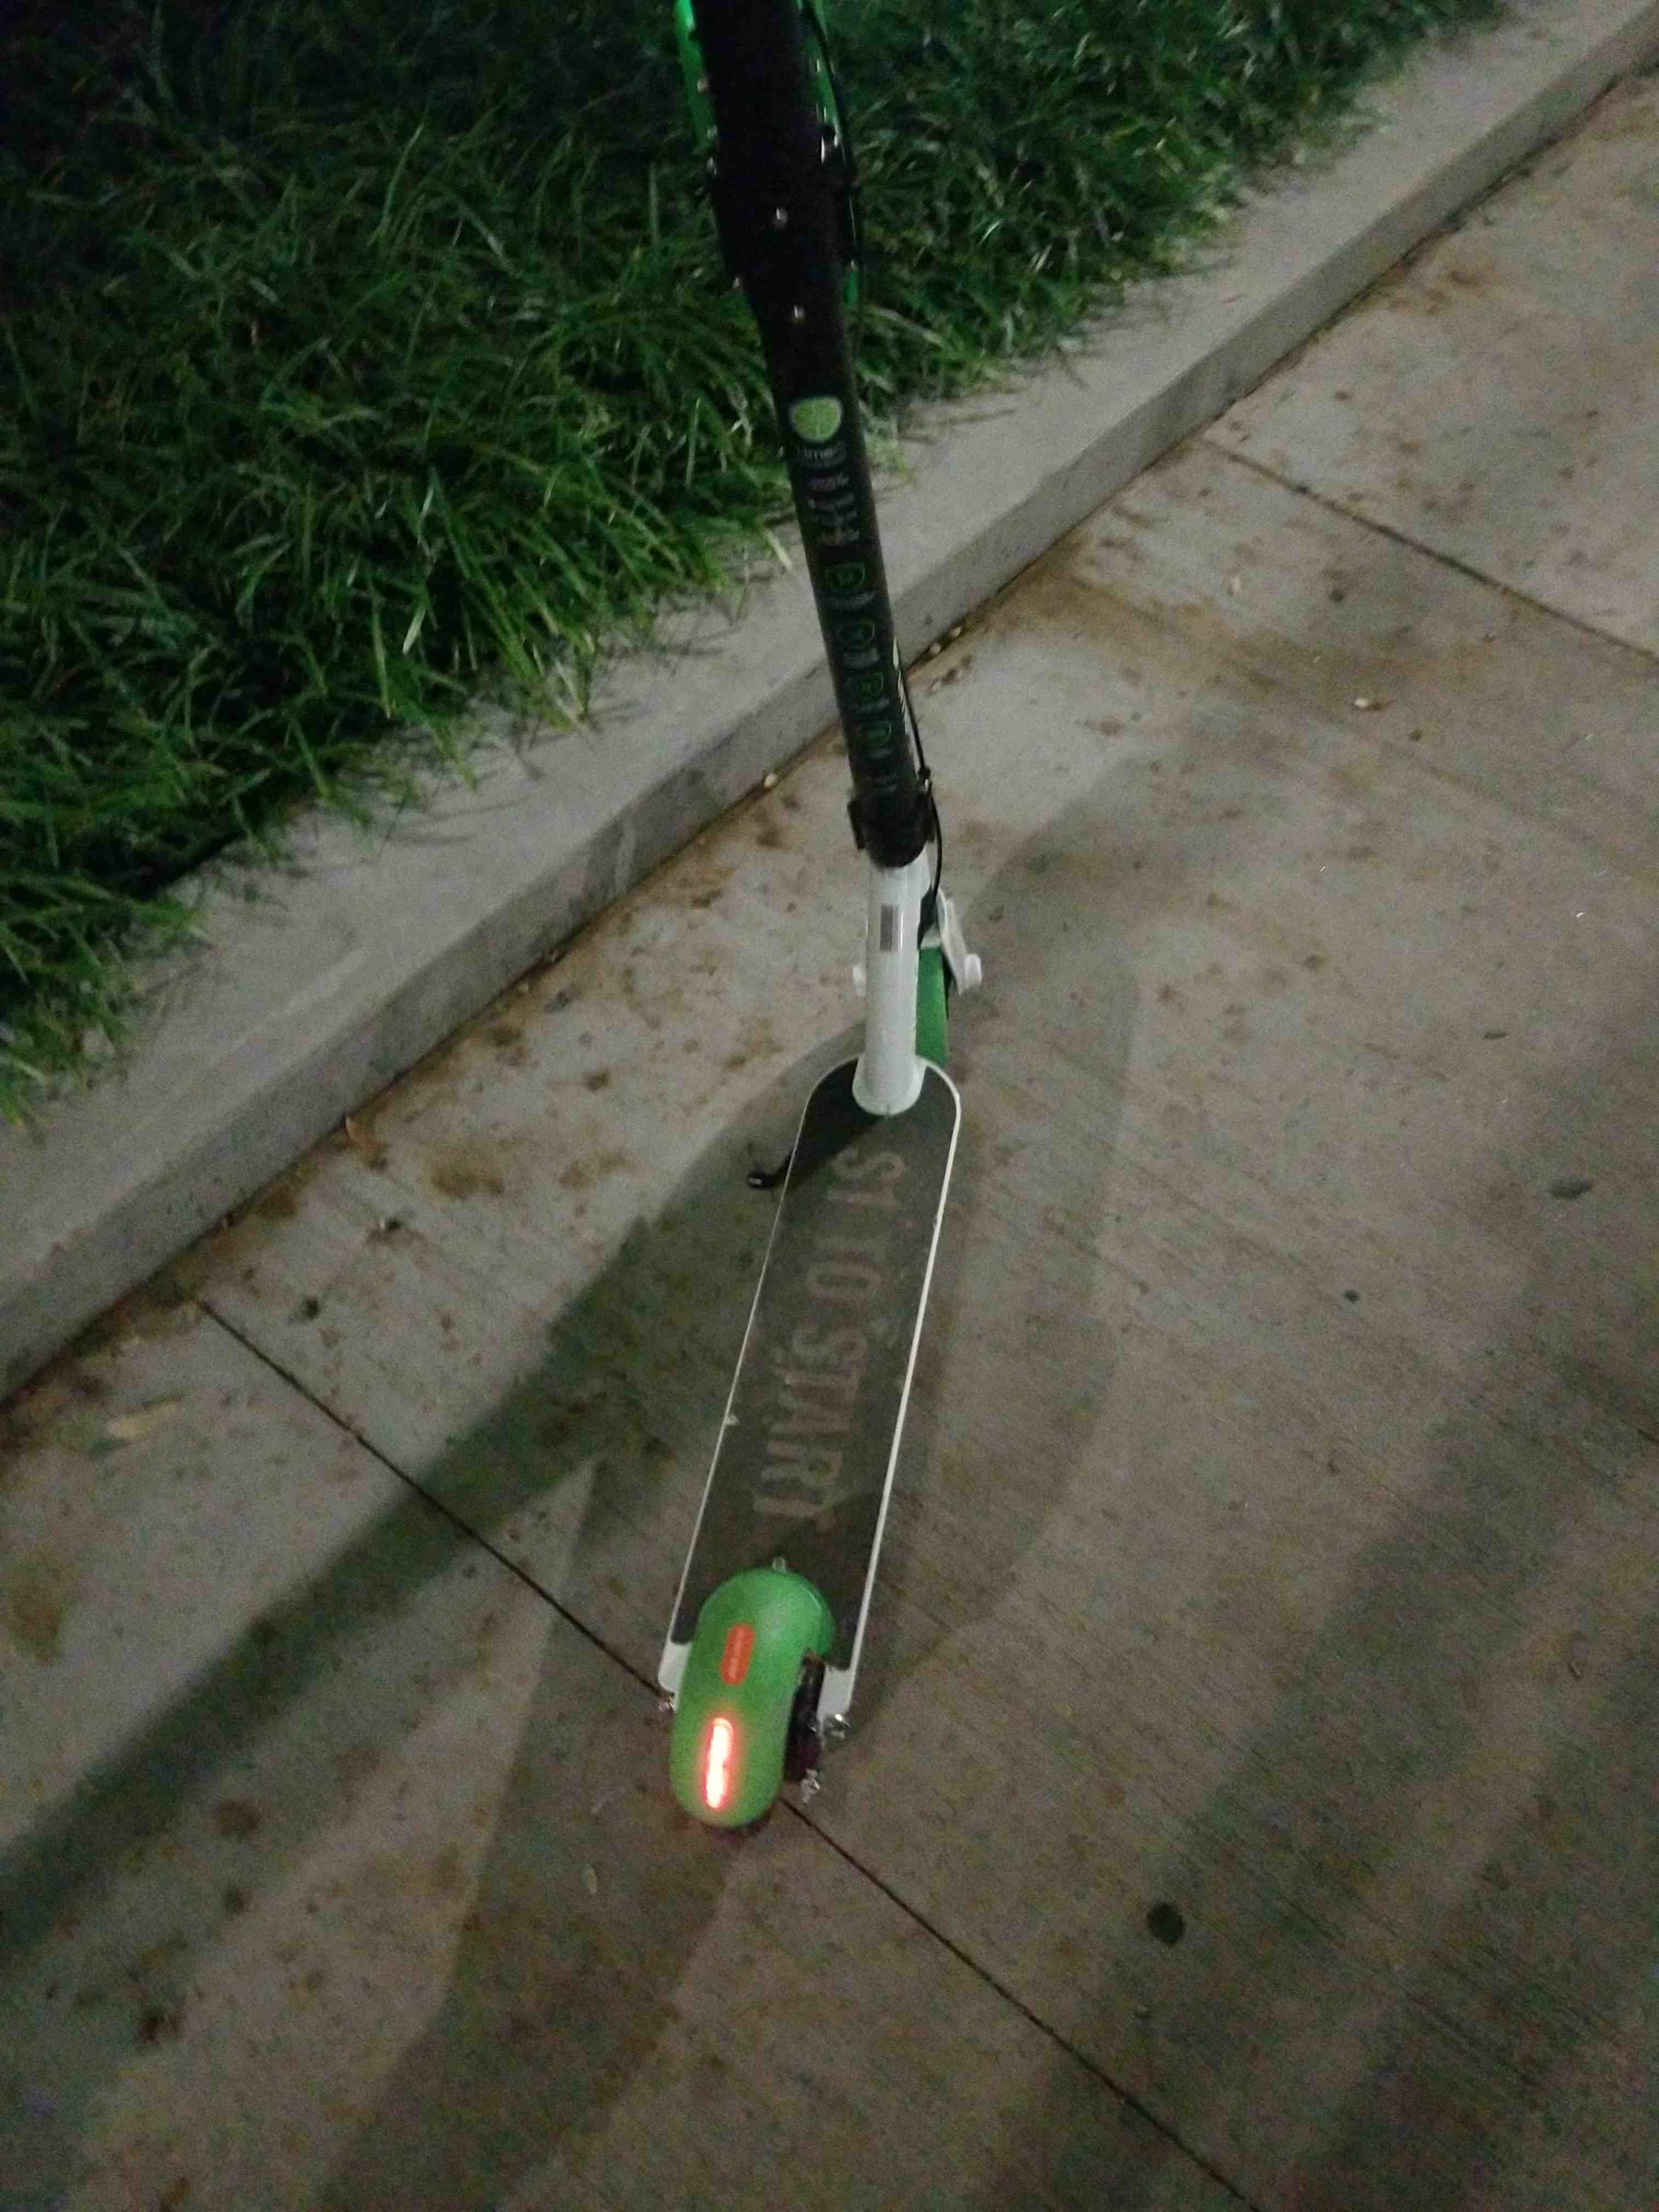scooter: (333, 17, 1112, 1869)
